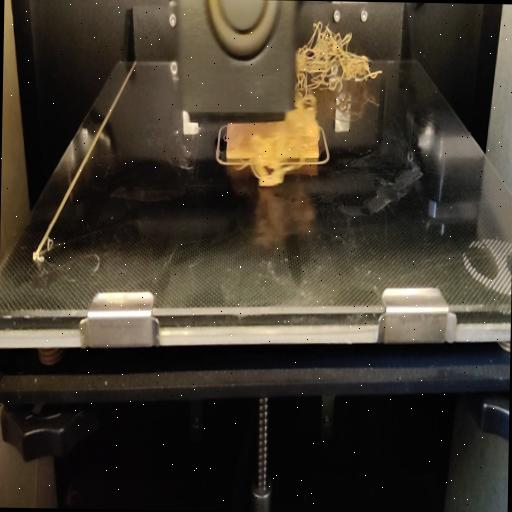spaghetti: (290, 20, 380, 88)
